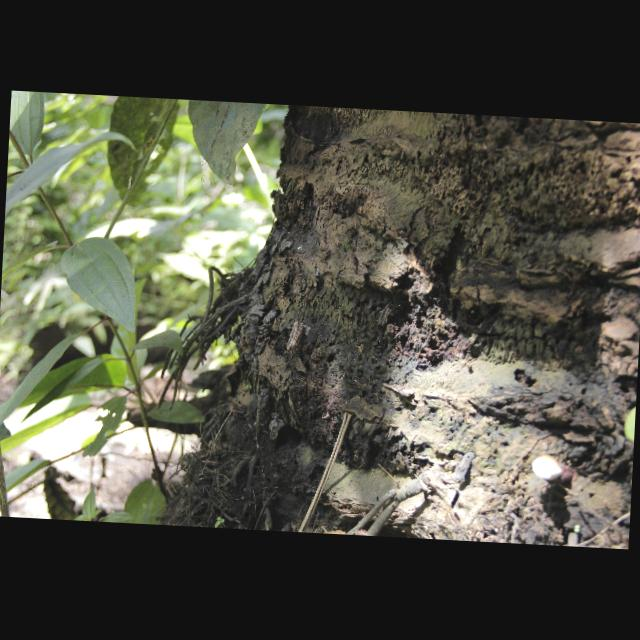primordium: (532, 456, 565, 487)
